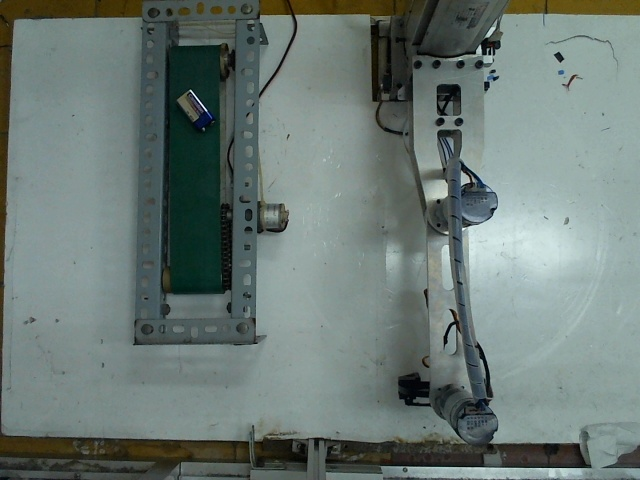battery: (175, 87, 218, 128)
